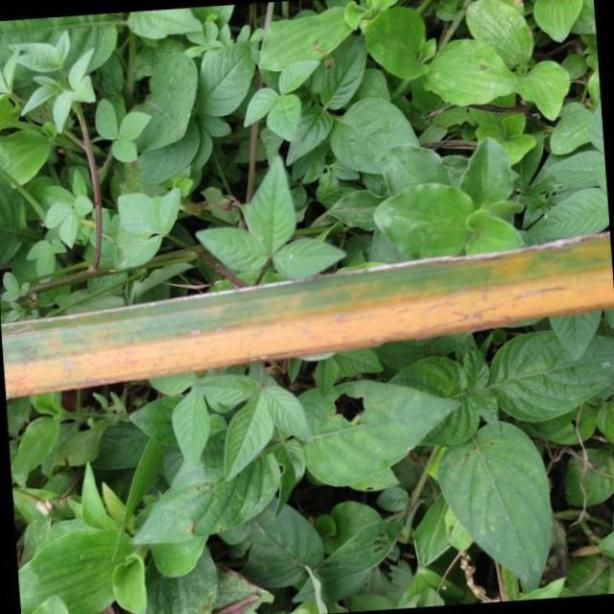Megnesium: (5, 224, 614, 401)
